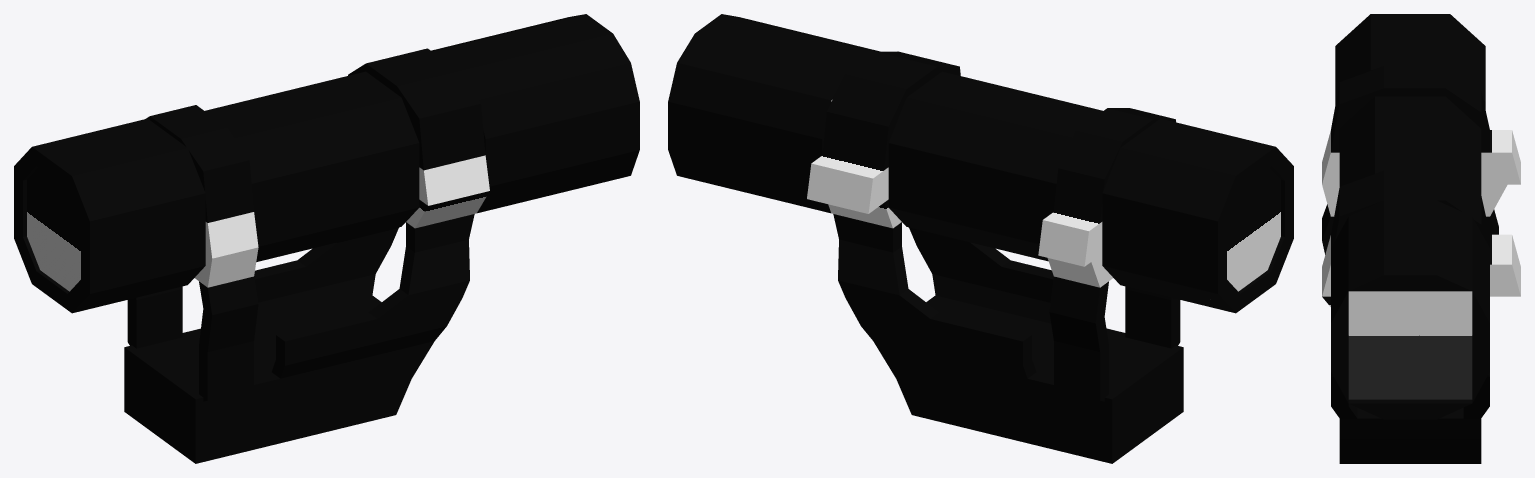
The picture shows the model from 3 angles, left to right: view 1: azimuth 30°, elevation 25°; view 2: azimuth 150°, elevation 25°; view 3: azimuth 270°, elevation 25°; orthographic projection.
Parts seen in each view (by area): view 1: scope78, scope63, scope17, scope82, scope64, scope77, scope88, scope83, scope70, scope90, scopeOverlay, scope74 (+20 smaller); view 2: scope80, scope65, scope17, scope84, scope64, scope77, scope88, scope83, scope69, scope91, scopeOverlay, scope76 (+20 smaller); view 3: scope8, scope77, scope64, scope83, scope88, scope17, scope78, scope80, scope73, scope68, scope79, scope74 (+16 smaller).
Part boxes in pixels (left/top/right/bottom): scope78: left=477, top=63, right=639, bottom=213; scope63: left=249, top=120, right=419, bottom=254; scope17: left=124, top=295, right=434, bottom=431; scope82: left=81, top=170, right=205, bottom=303; scope64: left=205, top=71, right=410, bottom=159; scope77: left=431, top=14, right=630, bottom=99; scope88: left=124, top=379, right=411, bottom=463; scope83: left=23, top=118, right=196, bottom=198; scope70: left=397, top=71, right=485, bottom=170; scope90: left=276, top=298, right=461, bottom=365; scopeOverlay: left=27, top=167, right=80, bottom=291; scope74: left=181, top=128, right=253, bottom=222; scope80: left=668, top=63, right=831, bottom=213; scope65: left=888, top=120, right=1061, bottom=251; scope17: left=873, top=295, right=1183, bottom=431; scope84: left=1102, top=170, right=1226, bottom=303; scope64: left=897, top=71, right=1102, bottom=160; scope77: left=677, top=14, right=879, bottom=100; scope88: left=896, top=379, right=1183, bottom=463; scope83: left=1111, top=118, right=1284, bottom=198; scope69: left=822, top=74, right=906, bottom=170; scope91: left=846, top=298, right=1031, bottom=365; scopeOverlay: left=1227, top=167, right=1280, bottom=291; scope76: left=1054, top=131, right=1122, bottom=222; scope8: left=1348, top=291, right=1472, bottom=399; scope77: left=1348, top=200, right=1472, bottom=291; scope64: left=1357, top=96, right=1463, bottom=182; scope83: left=1353, top=14, right=1467, bottom=80; scope88: left=1339, top=439, right=1481, bottom=463; scope17: left=1339, top=407, right=1481, bottom=439; scope78: left=1331, top=217, right=1348, bottom=402; scope80: left=1472, top=217, right=1489, bottom=402; scope73: left=1322, top=130, right=1520, bottom=184; scope68: left=1322, top=234, right=1520, bottom=296; scope79: left=1348, top=399, right=1472, bottom=419; scope74: left=1331, top=66, right=1383, bottom=152.
Size of the model in its own units: 3.55 by 1.9 by 1.12.
